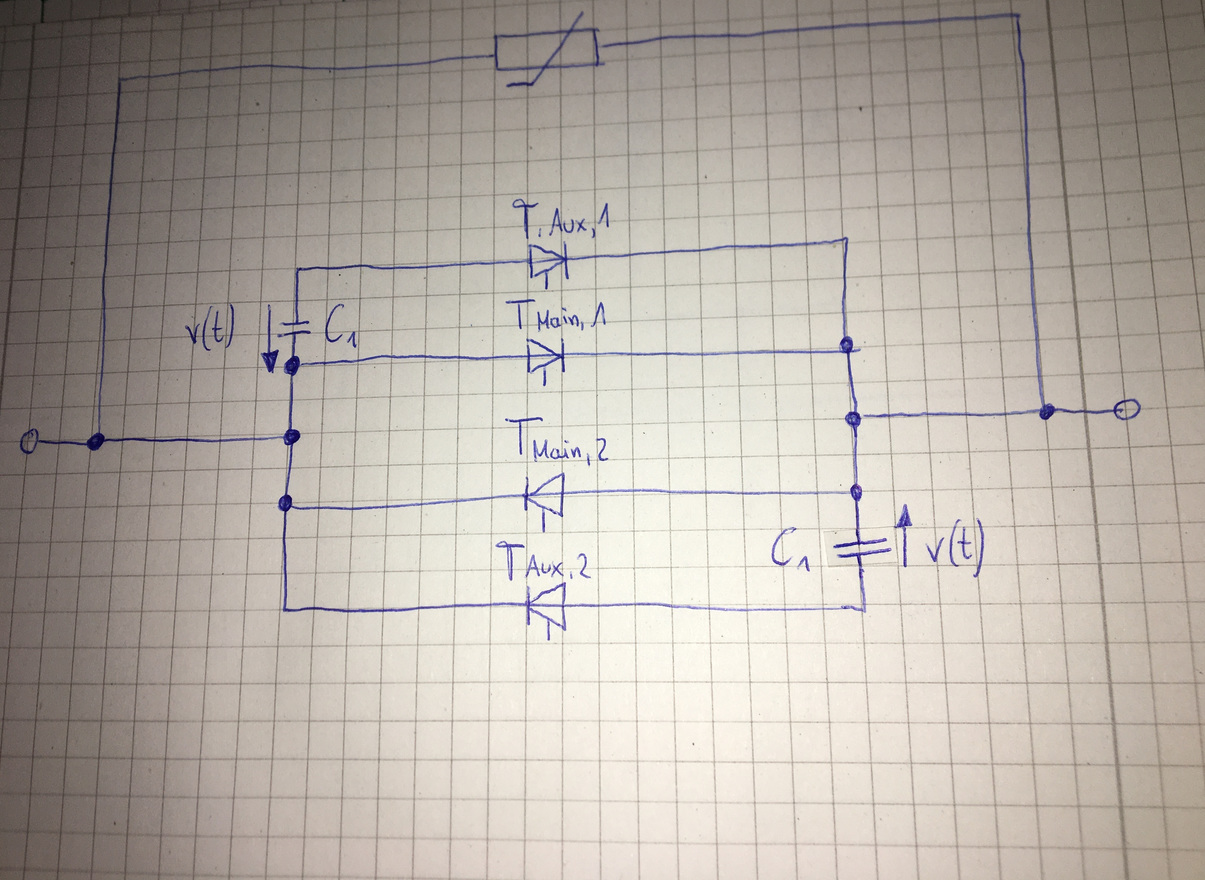capacitor.unpolarized: (832, 534, 895, 564), (274, 317, 314, 340)
junction: (842, 406, 869, 433), (837, 332, 863, 358), (281, 354, 306, 380), (83, 430, 107, 453), (1035, 402, 1058, 423), (846, 480, 866, 504), (276, 491, 295, 516), (281, 427, 302, 448), (855, 598, 874, 619), (111, 70, 130, 89), (837, 229, 856, 248), (1008, 7, 1028, 25), (288, 261, 307, 279), (276, 602, 293, 620)
terminal: (1111, 394, 1145, 424), (16, 425, 43, 457)
text: (503, 414, 612, 469), (509, 196, 615, 241), (493, 538, 595, 584), (923, 516, 989, 579), (502, 296, 609, 334), (182, 300, 240, 353), (770, 524, 814, 574), (321, 301, 364, 351)
thyristor: (522, 580, 570, 637), (520, 470, 568, 522), (523, 336, 569, 379), (527, 241, 573, 283)
varistor: (490, 8, 610, 90)
